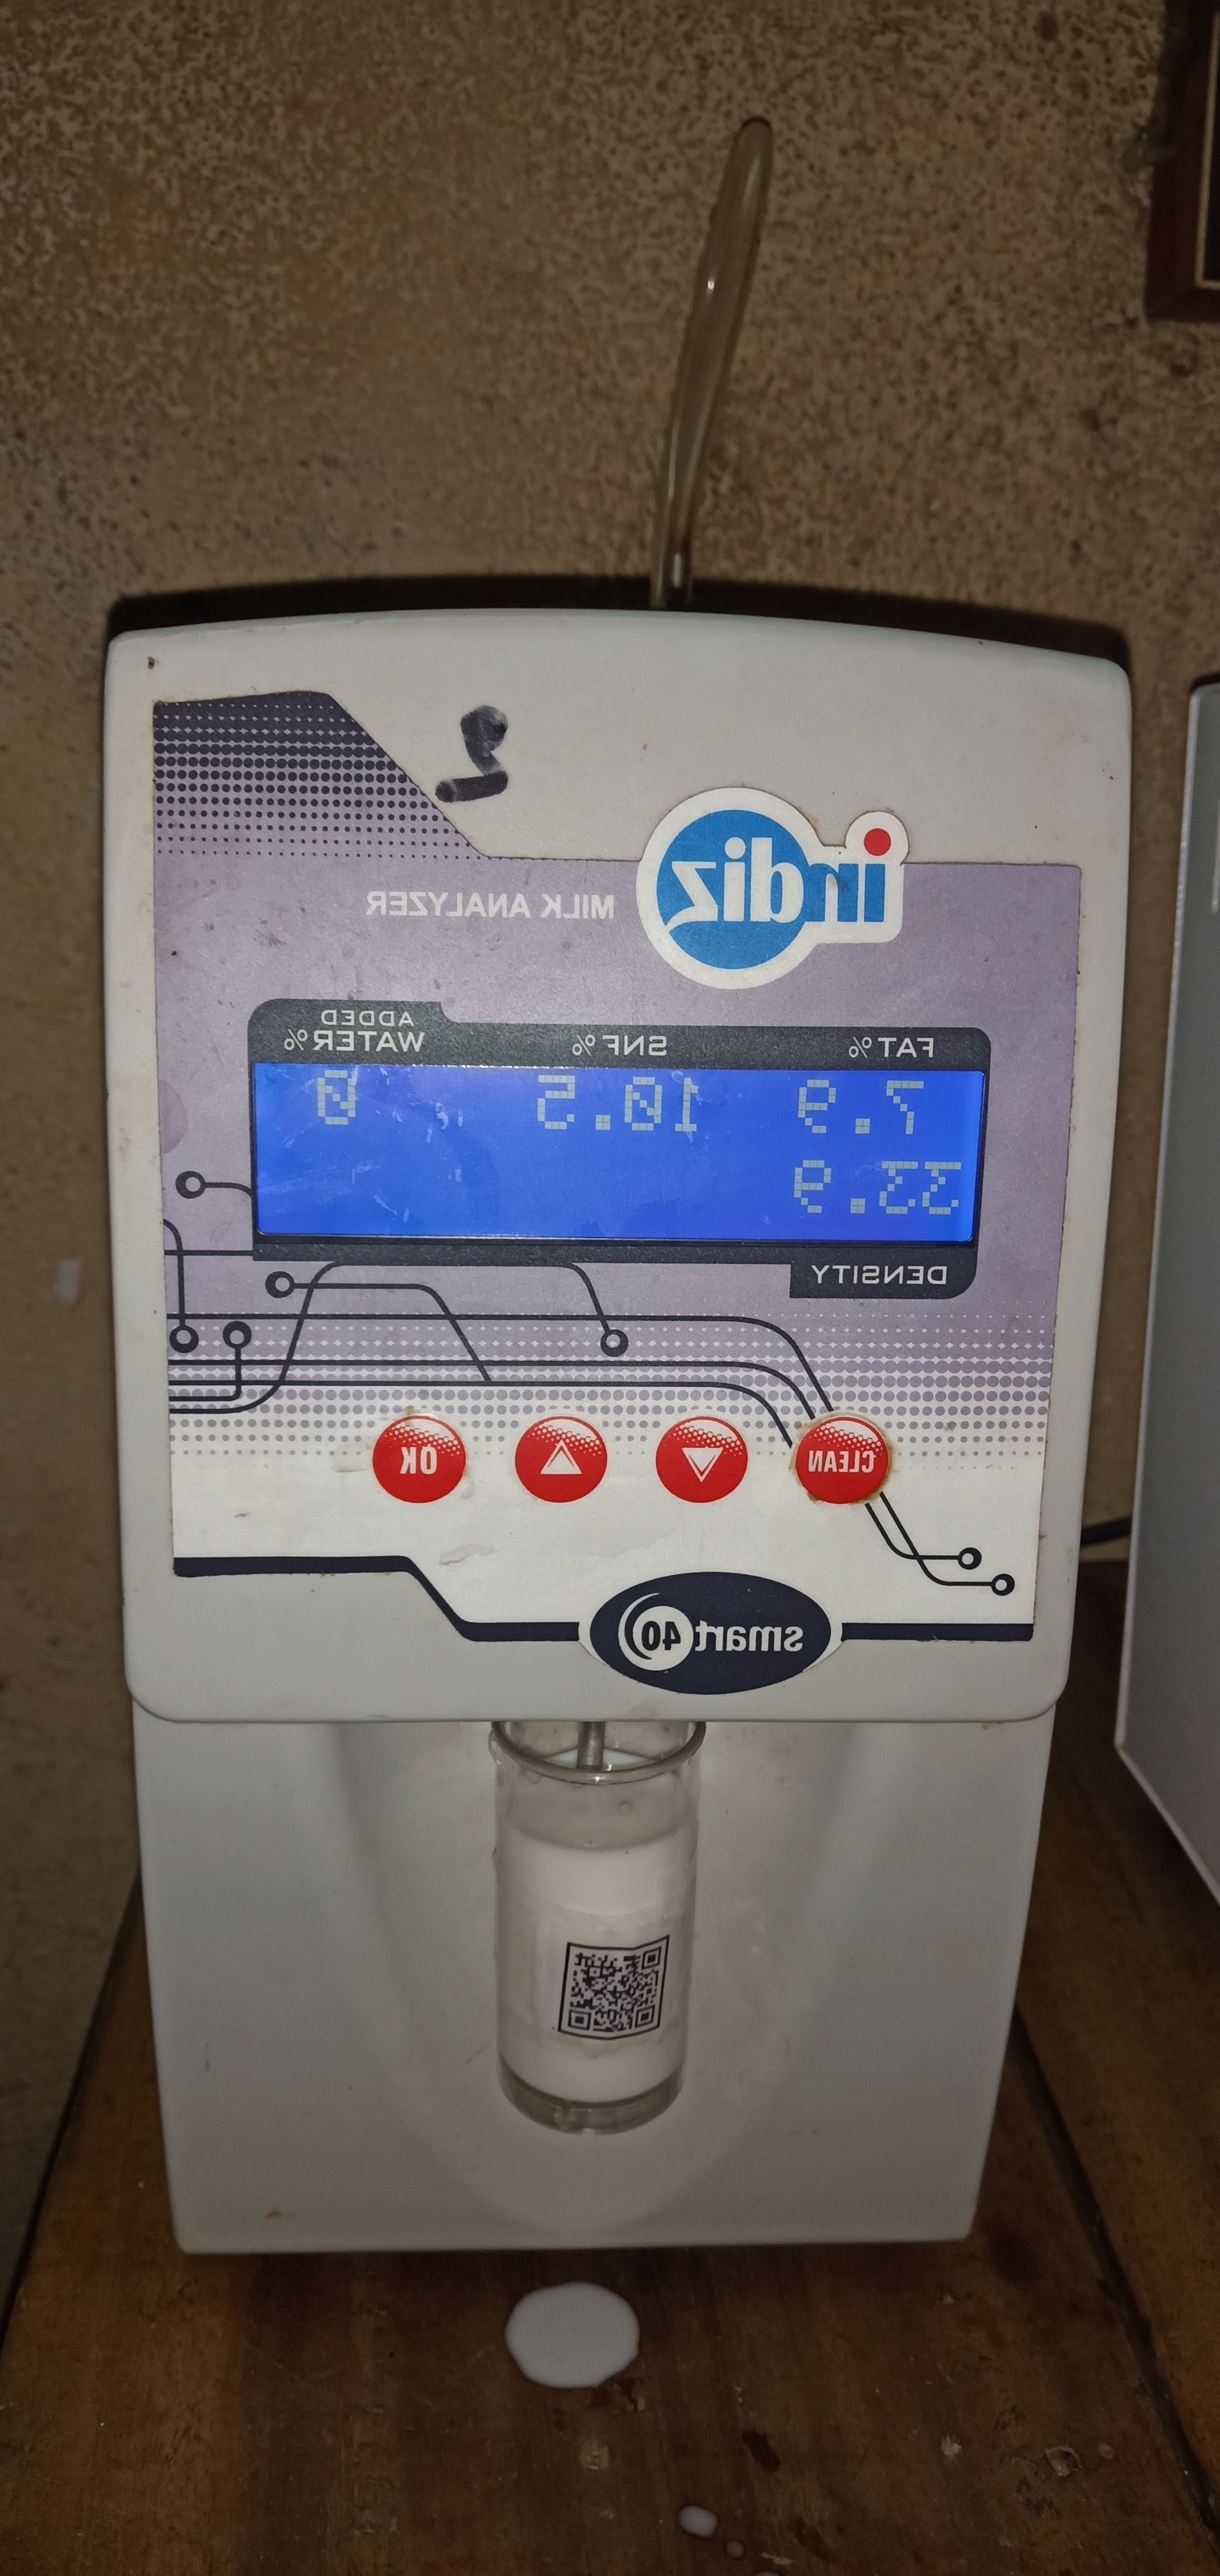lcd: (241, 1017, 990, 1299)
qr: (555, 1917, 688, 2050)
